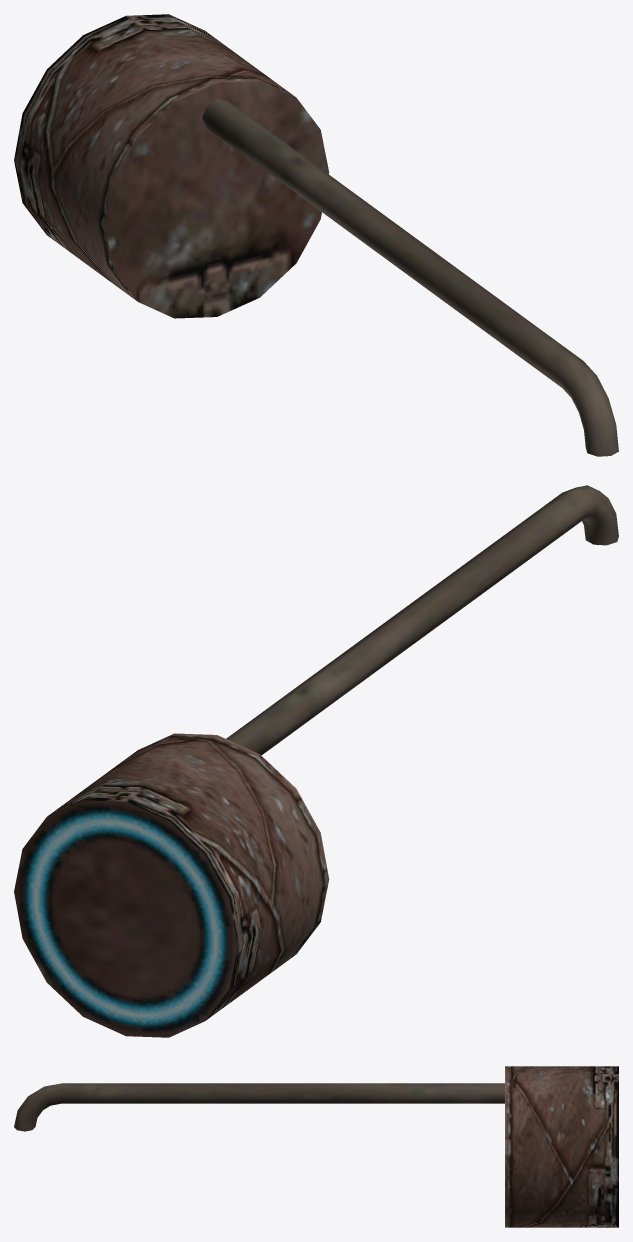
File: xwing_booster_s01_l0.fbx
3 renders of one model, top to bottom at view 1: azimuth 30°, elevation 25°; view 2: azimuth 150°, elevation 25°; view 3: azimuth 270°, elevation 25°, orthographic. The views are drawn at different scales.
Visible parts, largest first — view 1: mesh_node; view 2: mesh_node; view 3: mesh_node.
Part boxes in pixels (bbox=[...]): mesh_node: bbox=[14, 14, 618, 456]; mesh_node: bbox=[14, 485, 618, 1037]; mesh_node: bbox=[14, 1066, 618, 1227].
Size of the model in its own units: 1.2 by 1.2 by 4.5.
